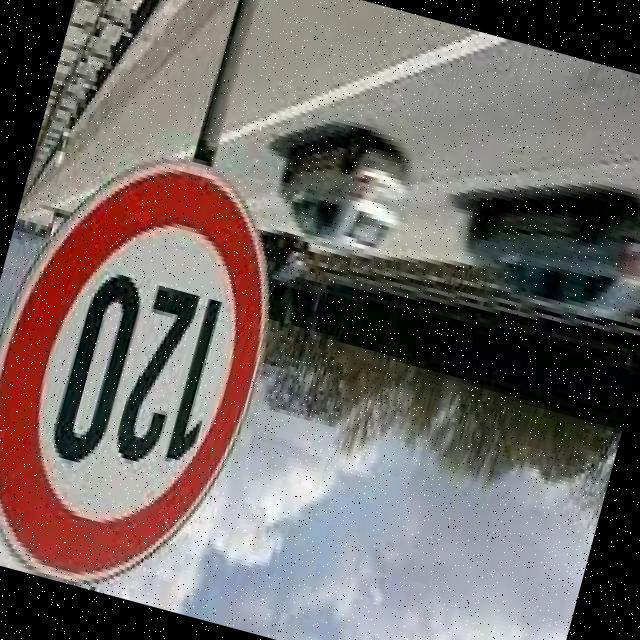speed_limit_120: (0, 131, 307, 617)
